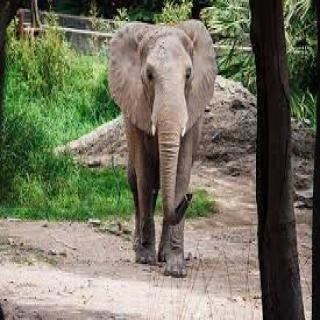Elephant: (108, 14, 225, 276)
